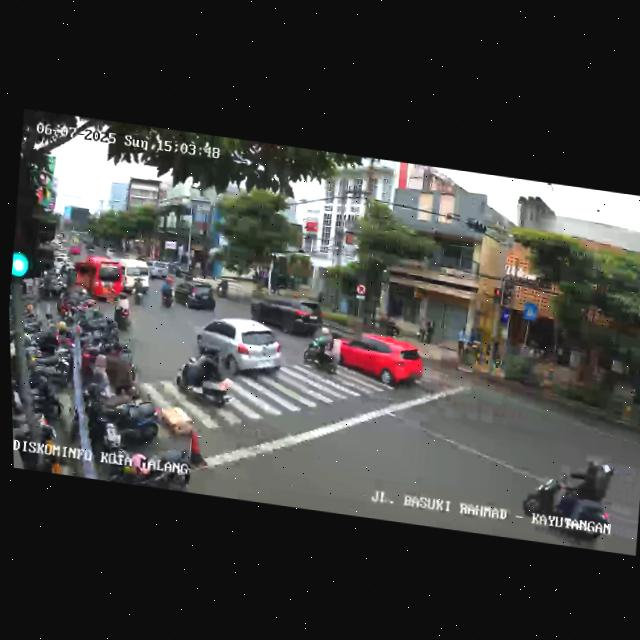car: (329, 327, 430, 401), (191, 312, 288, 384), (251, 283, 325, 338), (69, 253, 124, 304), (171, 276, 219, 316), (112, 256, 154, 296), (148, 260, 174, 282)
motorcycle: (521, 457, 621, 549), (172, 344, 236, 414), (299, 321, 343, 380), (111, 289, 136, 333), (158, 276, 177, 312), (128, 275, 146, 310)
